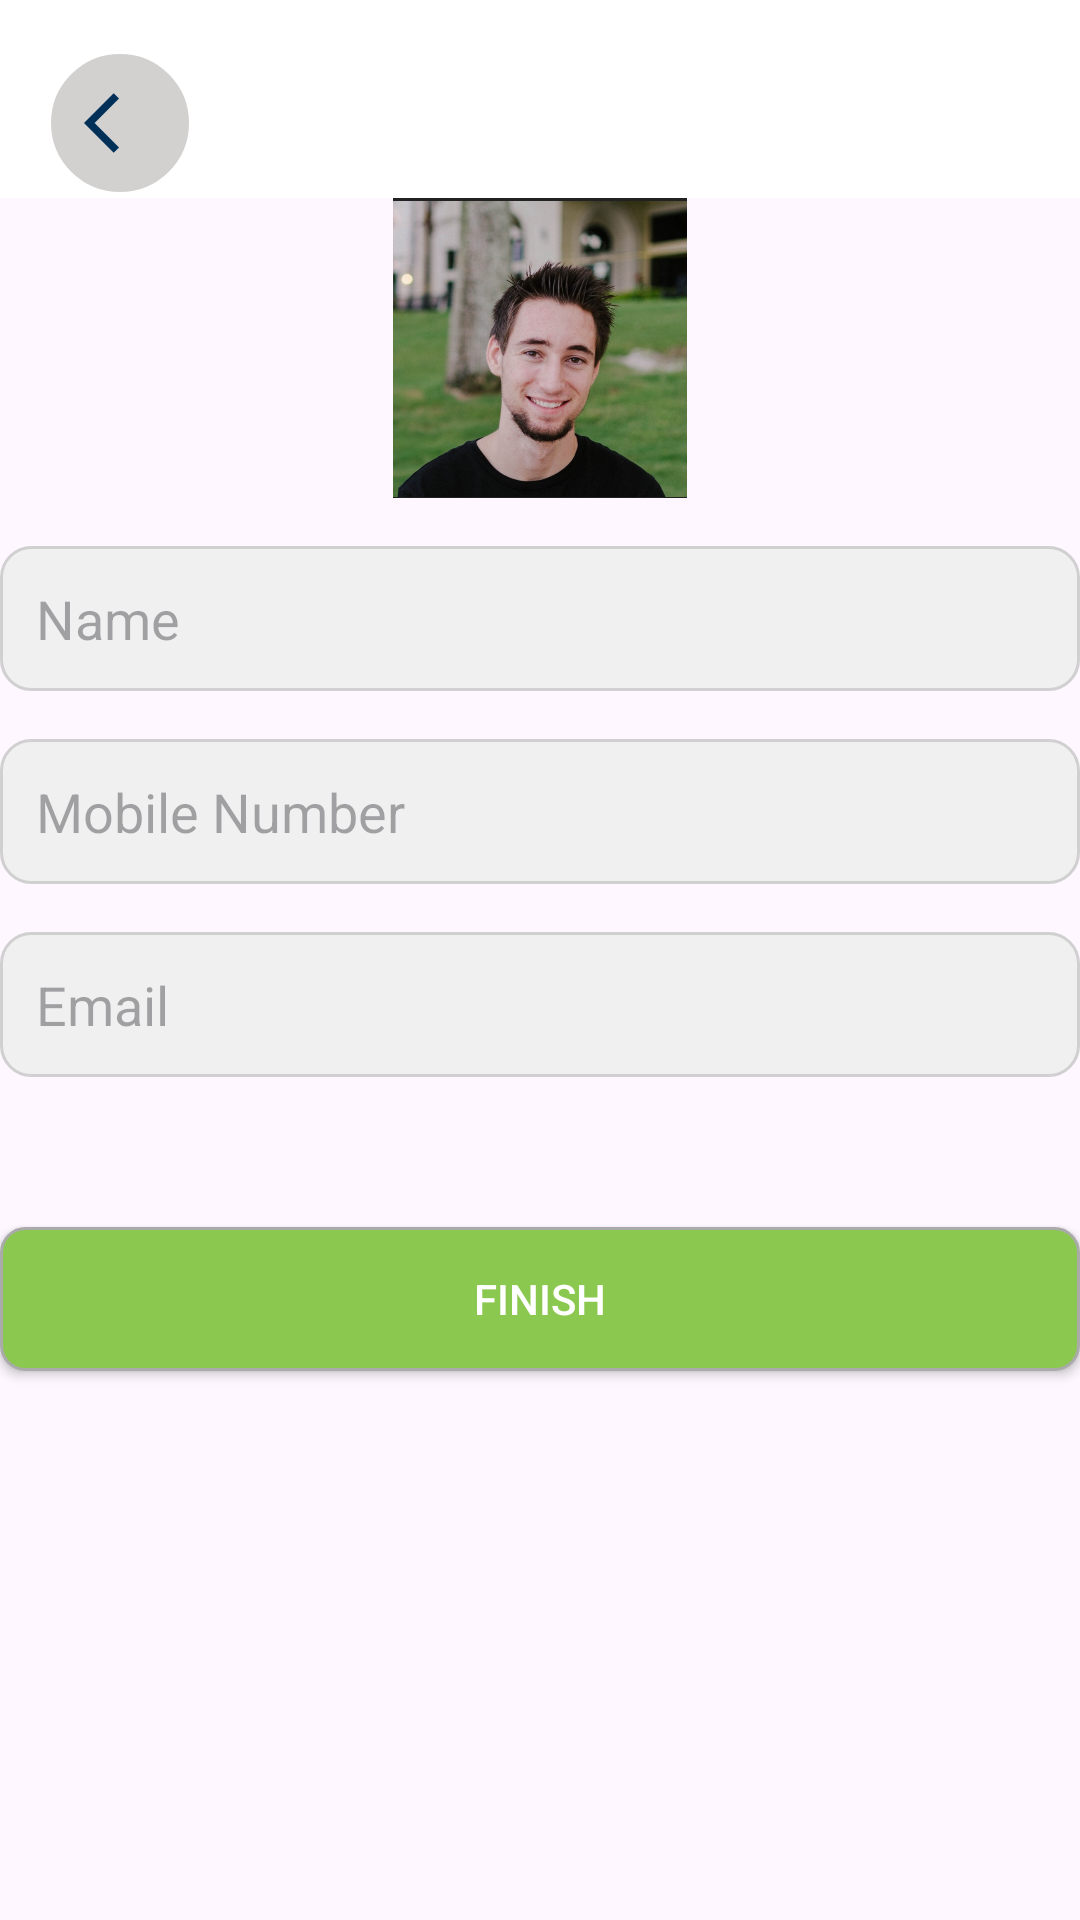

Icon bounding boxes for this 1080w x 1920h phone screenshot, format (left=x1, top=y1, right=x2, bottom=y2):
arrow back: (left=51, top=54, right=189, bottom=192)
user image: (left=393, top=198, right=687, bottom=498)
